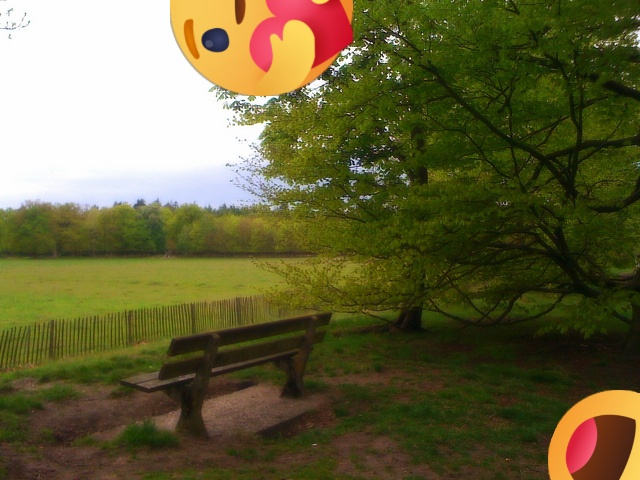care: (170, 0, 353, 96)
haha: (548, 390, 640, 480)
